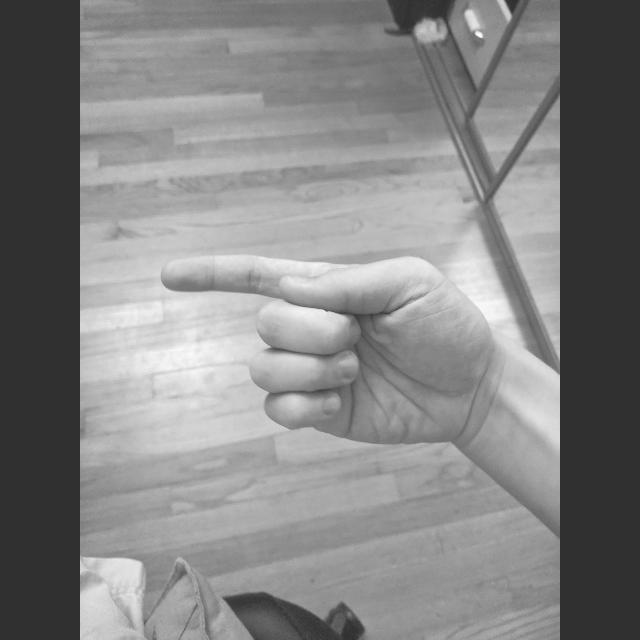G: (156, 250, 494, 450)
